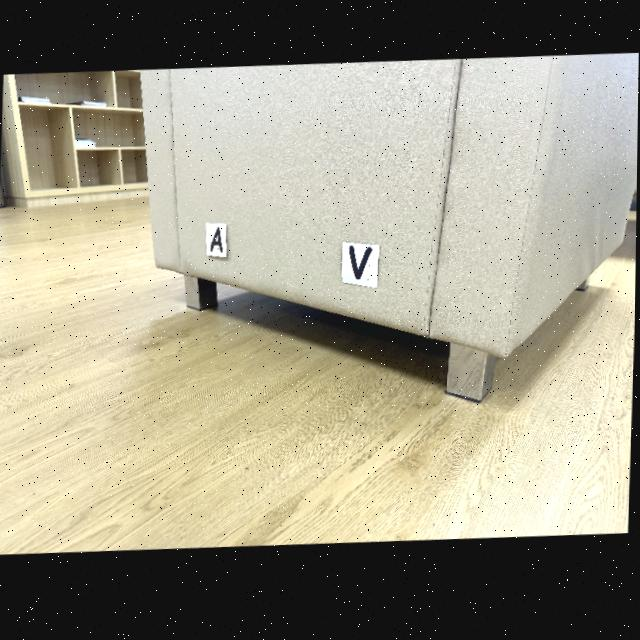A: (211, 229, 223, 254)
V: (349, 250, 373, 284)
